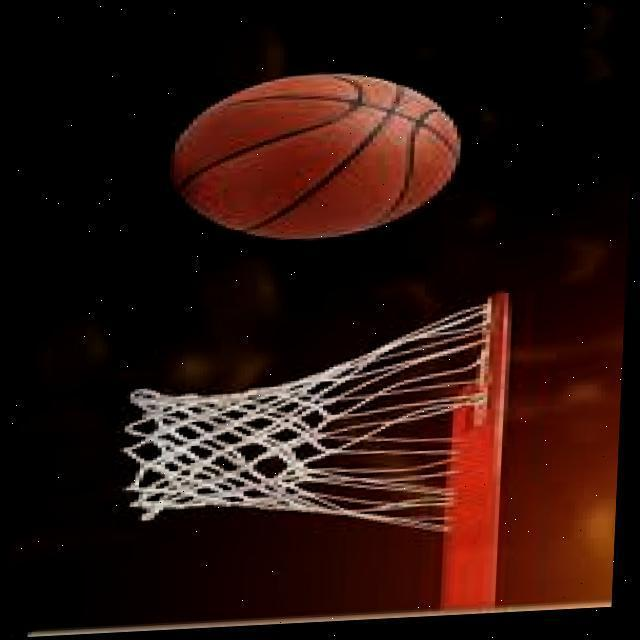Basketball: (168, 74, 461, 241)
